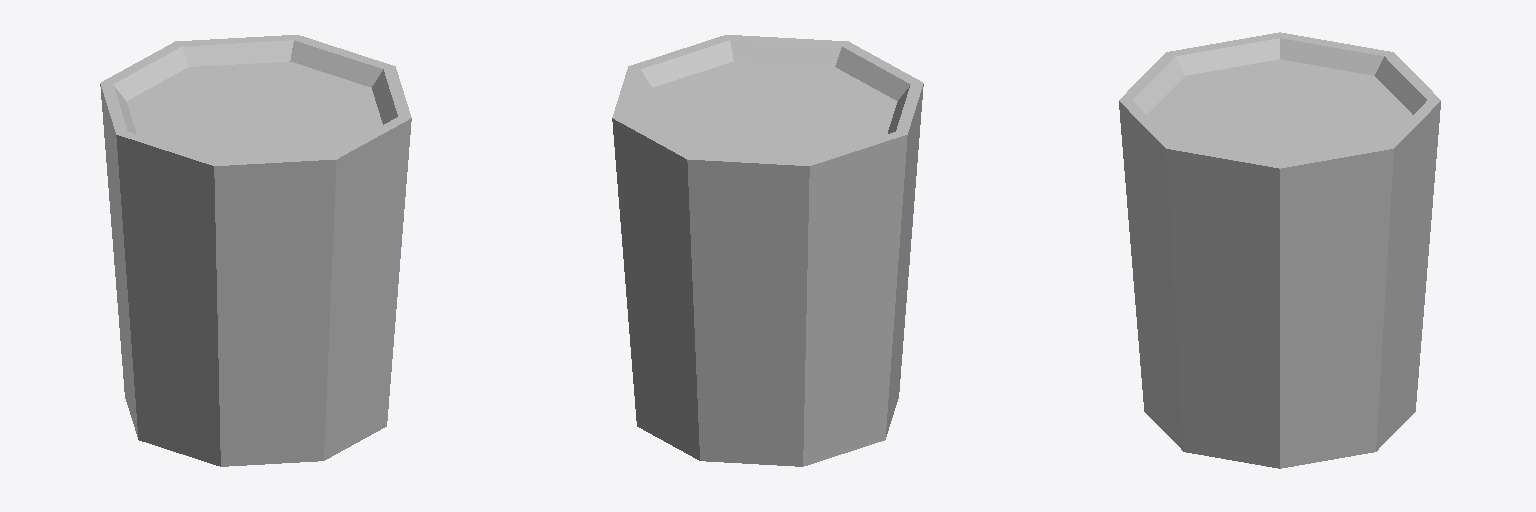
File: plantable_barrel_planter.obj
3 views of the same model, side by side, from view 1: azimuth 30°, elevation 25°; view 2: azimuth 150°, elevation 25°; view 3: azimuth 270°, elevation 25° (orthographic).
Parts seen in each view (by area): view 1: Barrel_Planter.001; view 2: Barrel_Planter.001; view 3: Barrel_Planter.001.
Part boxes in pixels (x1,y1,x2,y2): Barrel_Planter.001: (100, 35, 411, 466); Barrel_Planter.001: (612, 35, 923, 466); Barrel_Planter.001: (1119, 32, 1440, 468).
Bounding box in the file's own units: 0.9872 × 1.05 × 0.9872.